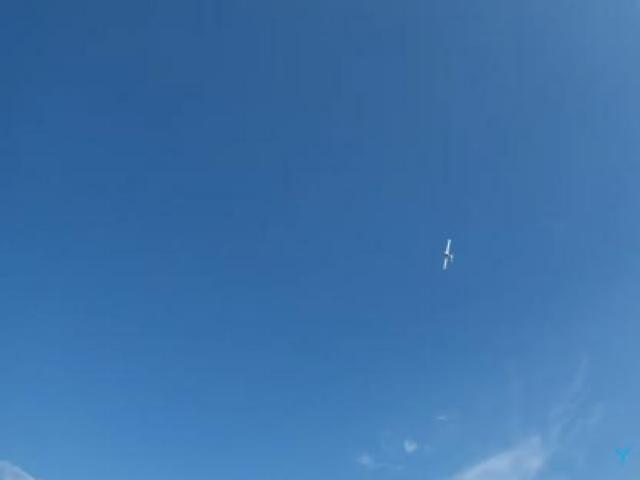uav: (432, 227, 460, 273)
